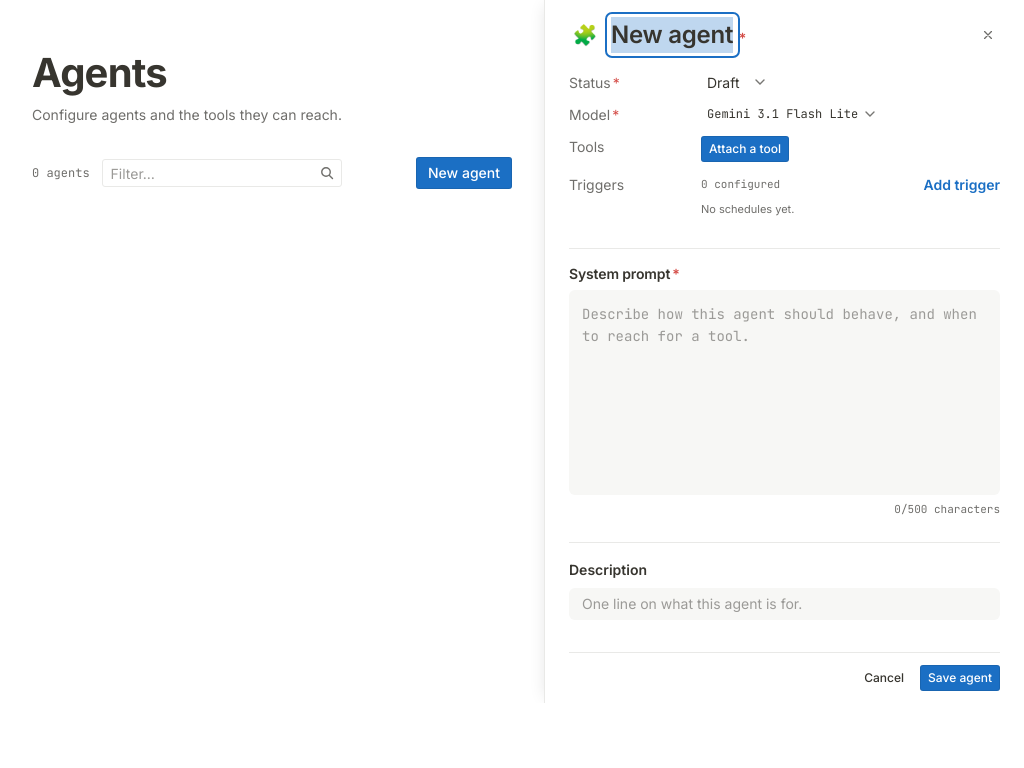
Test: AgentsPage draft validation › refuses to save a draft whose system prompt is still blank
Click the button "Save agent": (960, 678) [920, 665, 1000, 691]
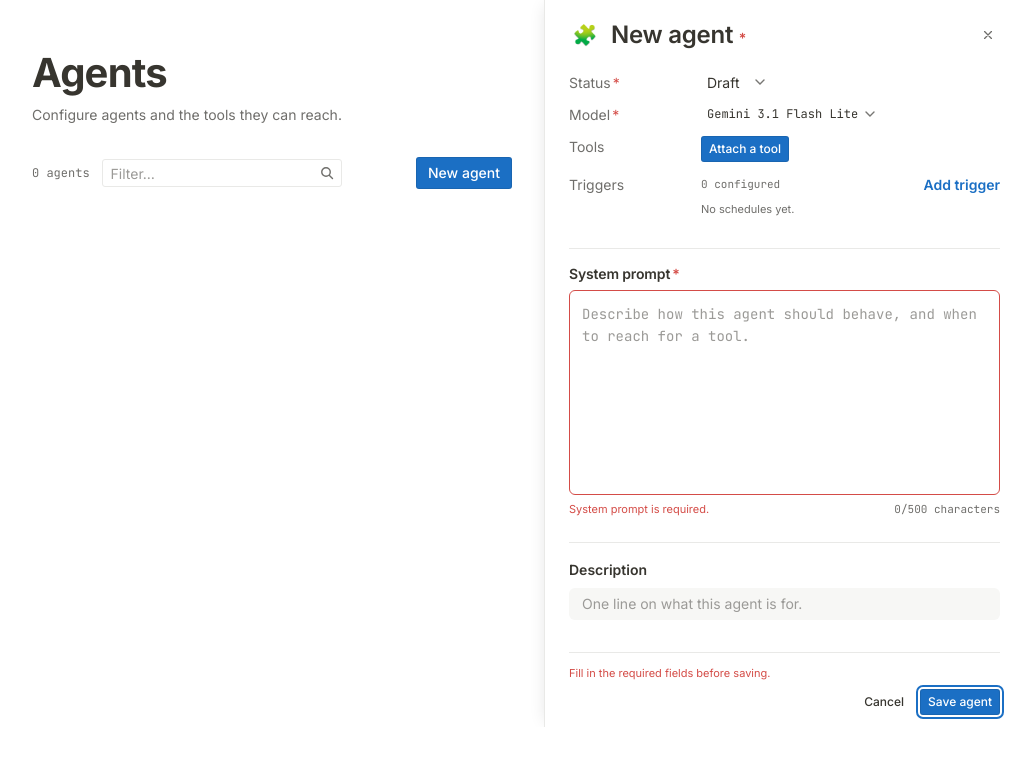
Expected: the text "System prompt is required." is shown, [569, 501, 709, 518]
